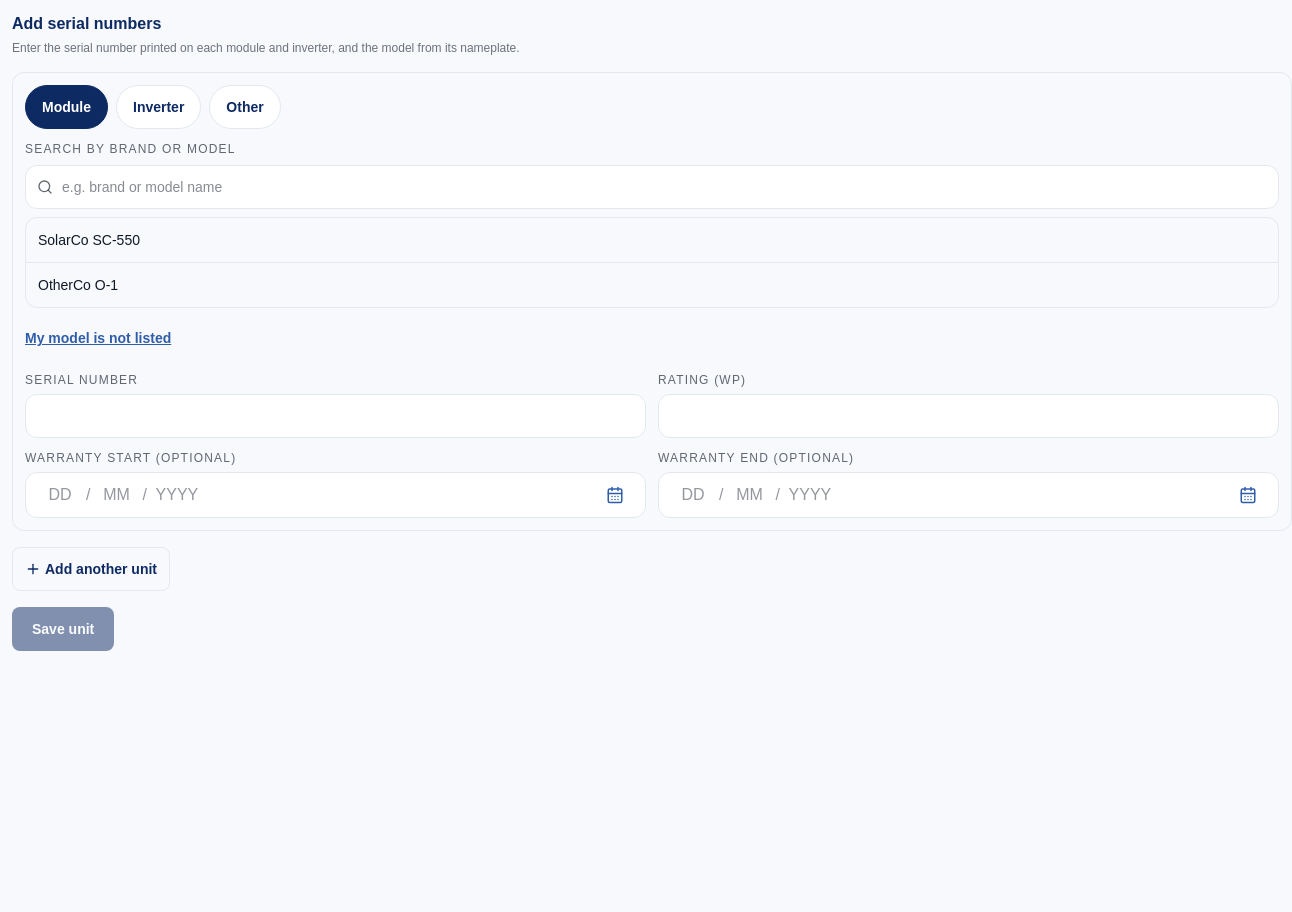
RegisterEntry — serial check, scanning and unsaved rows › shows the backend's associate-safe message exactly as returned, with a customer link only when given
Type "SN-1" into the field labelled "Serial number" at (336, 416), box left=25, top=394, right=646, bottom=438
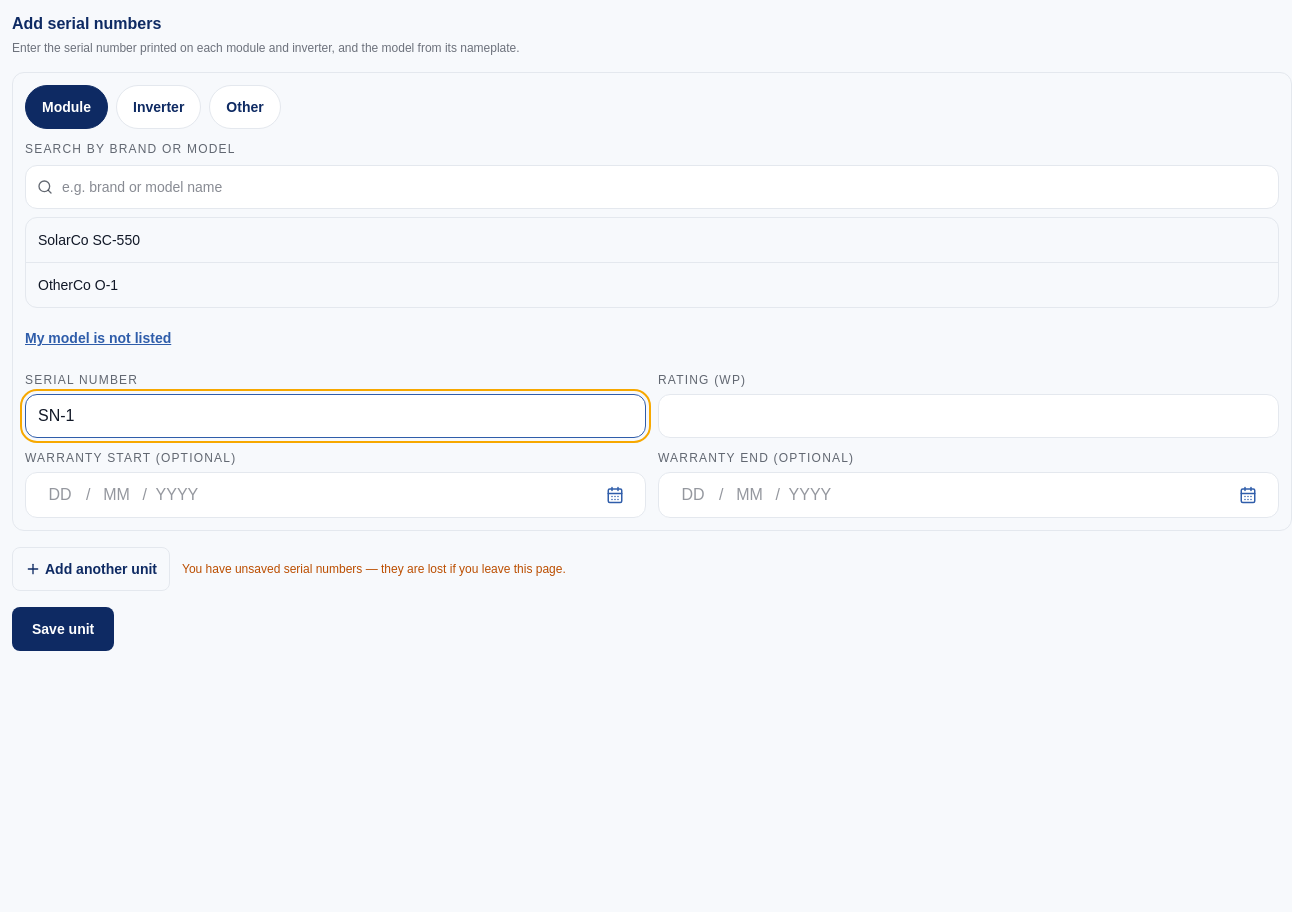
Press Tab
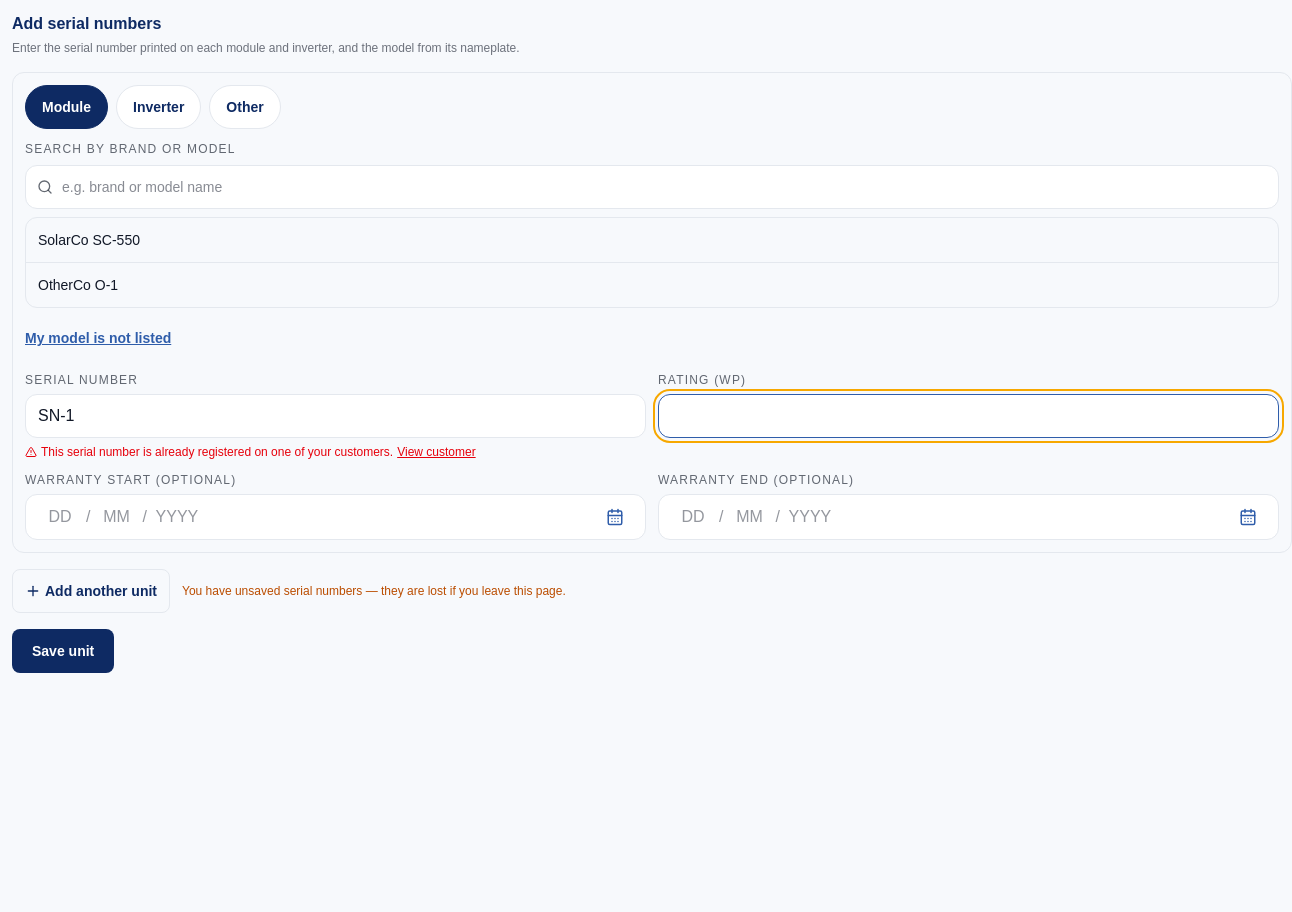
Expected: the element with test id "serial-check" shows "This serial number is already registered on one of your customers.", left=41, top=445, right=393, bottom=459
